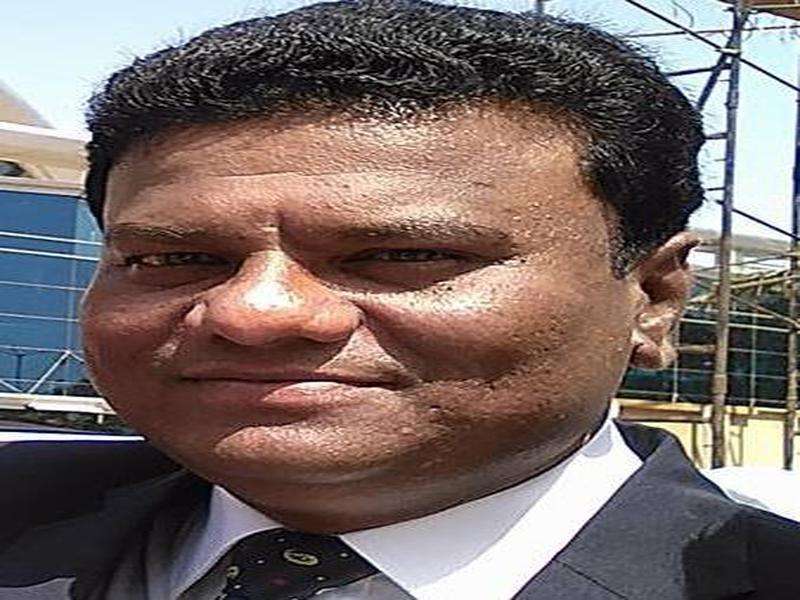without_mask: (83, 165, 617, 502)
